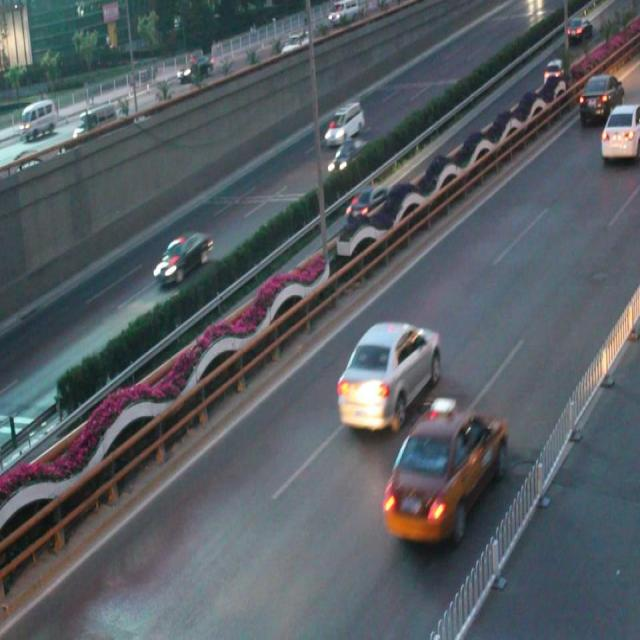car: (384, 401, 506, 546), (337, 324, 440, 434), (154, 232, 210, 287), (598, 107, 640, 155), (345, 183, 385, 225), (326, 136, 366, 177)
truck: (322, 102, 365, 148)
